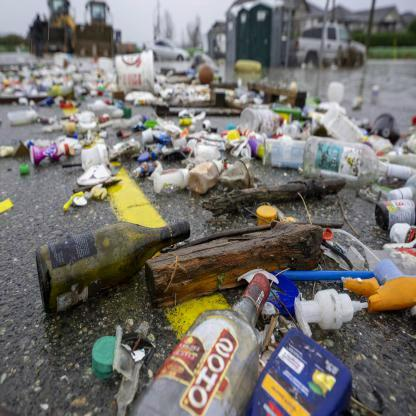Glass: (133, 272, 270, 416), (32, 214, 193, 315), (300, 133, 414, 187)
Plastic: (264, 326, 356, 416)
